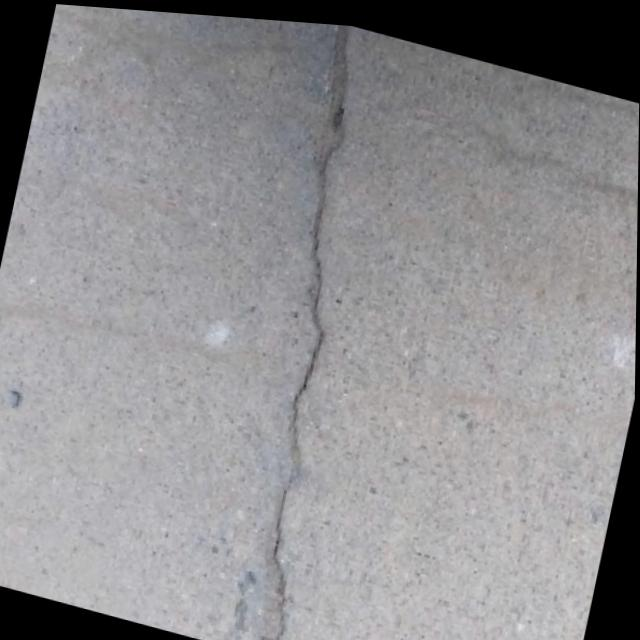Crack: (185, 11, 436, 640)
